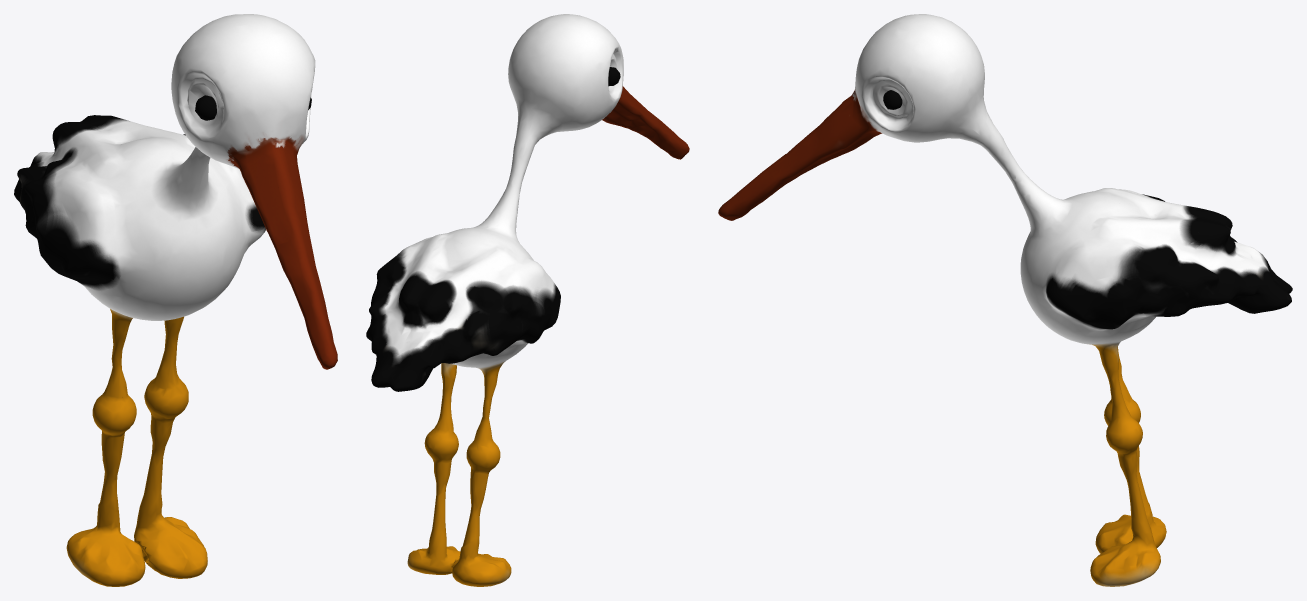
The model's file is smeerws_2018-05-16_18-35-14storch.fbx.
3 renders of one model, left to right at view 1: azimuth 30°, elevation 25°; view 2: azimuth 150°, elevation 25°; view 3: azimuth 270°, elevation 25°, orthographic. The views are drawn at different scales.
Parts seen in each view (by area): view 1: Layer_1, eyes; view 2: Layer_1; view 3: Layer_1.
Part boxes in pixels (box(x1,y1,x2,y2)): Layer_1: box(14, 14, 337, 586); eyes: box(195, 95, 311, 120); Layer_1: box(366, 14, 689, 586); Layer_1: box(718, 14, 1292, 586).
Bounding box in the file's own units: 0.7746 × 2.25 × 2.34.
